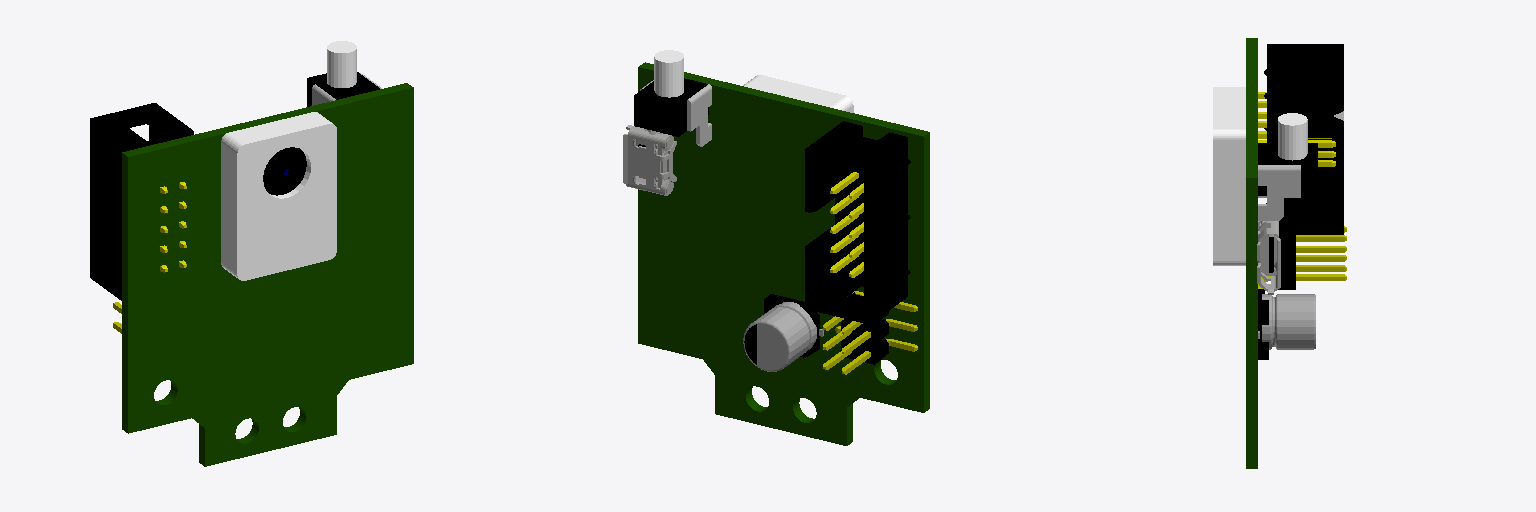
The model's file is CMUcam5.obj.
The picture shows the model from 3 angles: view 1: azimuth 30°, elevation 25°; view 2: azimuth 150°, elevation 25°; view 3: azimuth 270°, elevation 25°; orthographic projection.
Size of the model in its own units: 39.17 by 46.9 by 15.65.